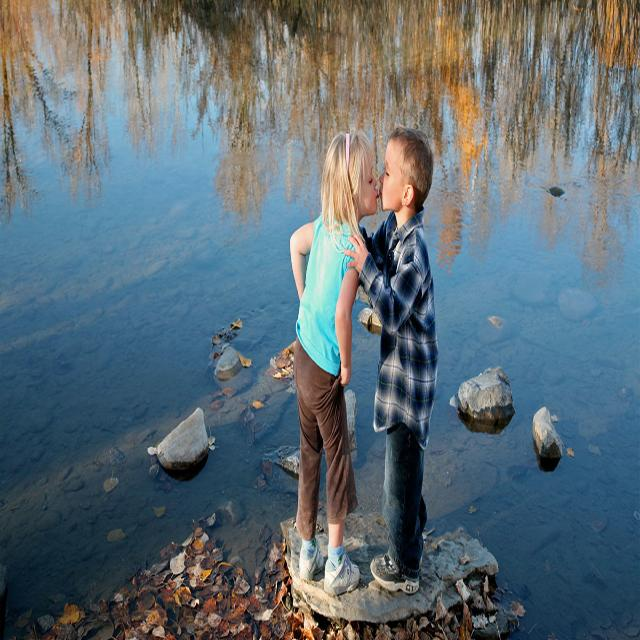child: (289, 123, 380, 596), (350, 122, 438, 599)
